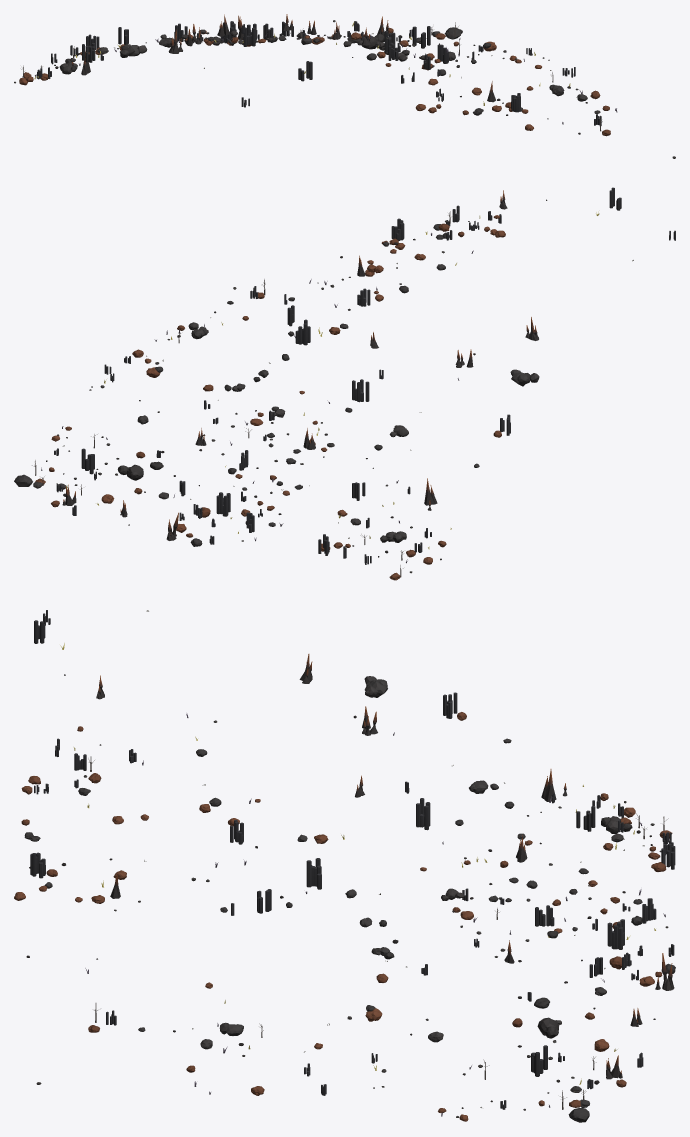
The model's file is ash_land_scatter_c21_28.glb.
The picture shows the model from 3 angles, top to bottom: view 1: azimuth 30°, elevation 25°; view 2: azimuth 150°, elevation 25°; view 3: azimuth 270°, elevation 25°; orthographic projection. The views are drawn at different scales.
Visible parts, largest first — view 1: ash_land_scatter_c21_28; view 2: ash_land_scatter_c21_28; view 3: ash_land_scatter_c21_28.
Boxes of the visible parts, bbox=[...] form: ash_land_scatter_c21_28: bbox=[14, 14, 675, 158]; ash_land_scatter_c21_28: bbox=[14, 187, 675, 580]; ash_land_scatter_c21_28: bbox=[14, 610, 675, 1122].
Bounding box in the file's own units: 256 × 121 × 260.
